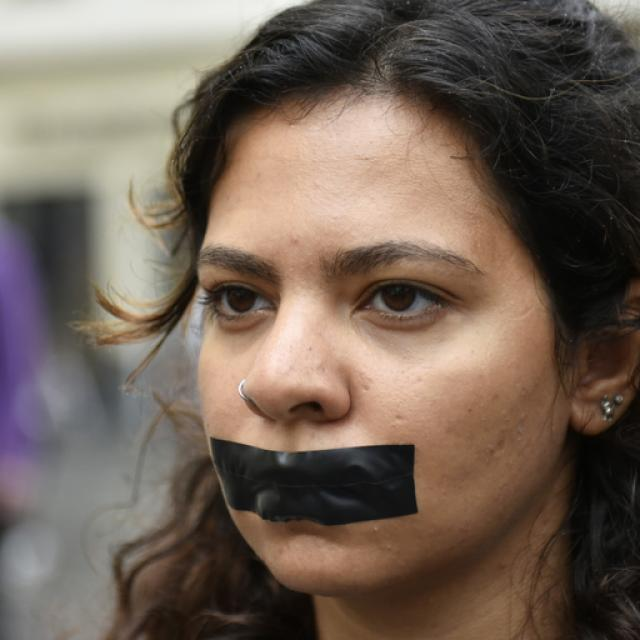neutral: (191, 80, 561, 595)
